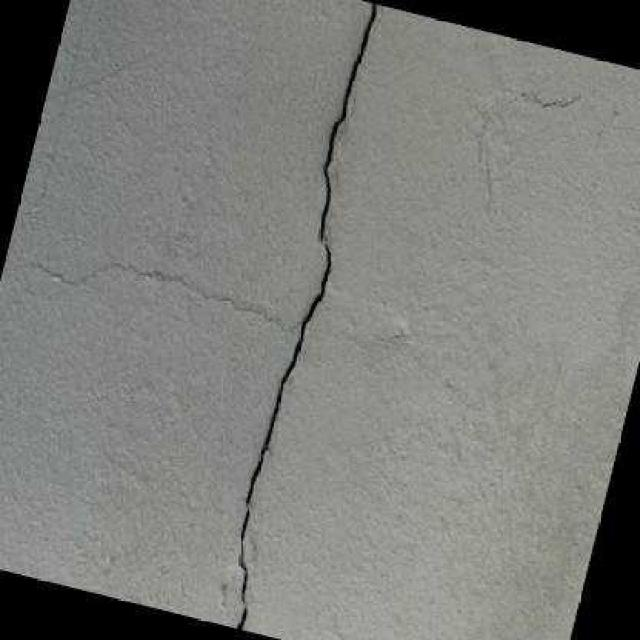D00: (233, 3, 380, 631)
